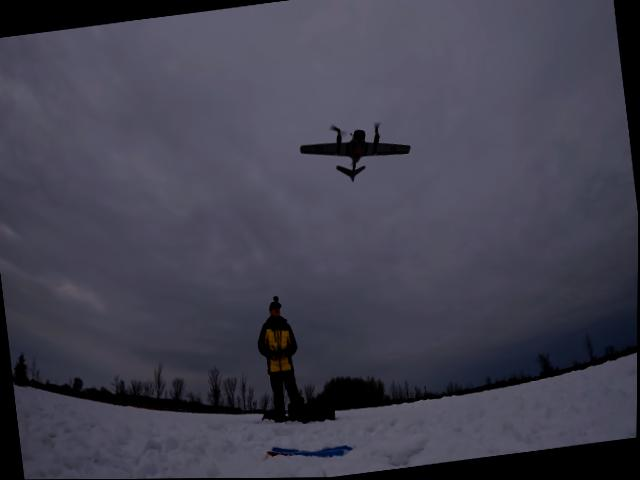plane: (298, 119, 414, 186)
